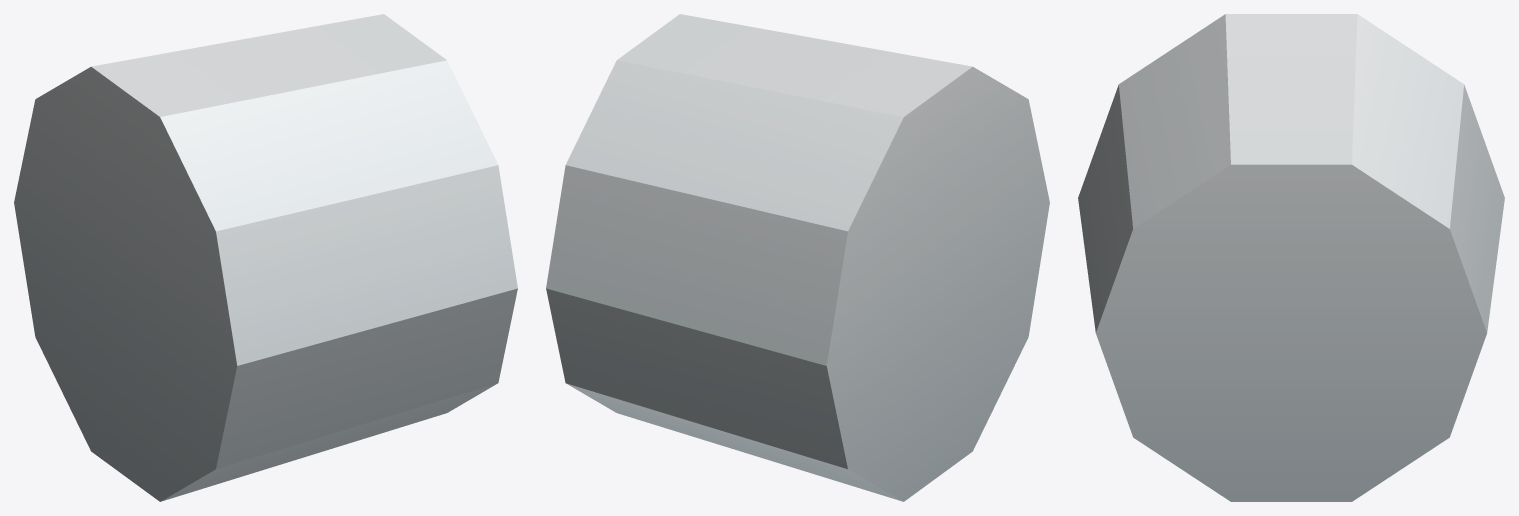
Rendered from cloth_sleeves_upper.glb.
3 renders of one model, left to right at view 1: azimuth 30°, elevation 25°; view 2: azimuth 150°, elevation 25°; view 3: azimuth 270°, elevation 25°, orthographic. The views are drawn at different scales.
Visible parts, largest first — view 1: cloth_sleeves_upper; view 2: cloth_sleeves_upper; view 3: cloth_sleeves_upper.
Part boxes in pixels (left/top/right/bottom): cloth_sleeves_upper: left=14, top=14, right=517, bottom=501; cloth_sleeves_upper: left=546, top=14, right=1049, bottom=501; cloth_sleeves_upper: left=1078, top=14, right=1504, bottom=501.
Size of the model in its own units: 0.27 by 0.3424 by 0.36.
Materials: 1 (1 with a texture image).
